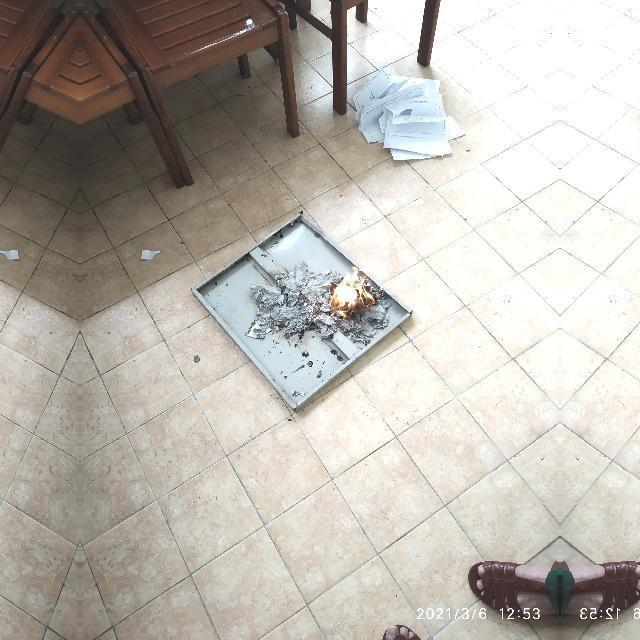smoke: (324, 266, 380, 318)
